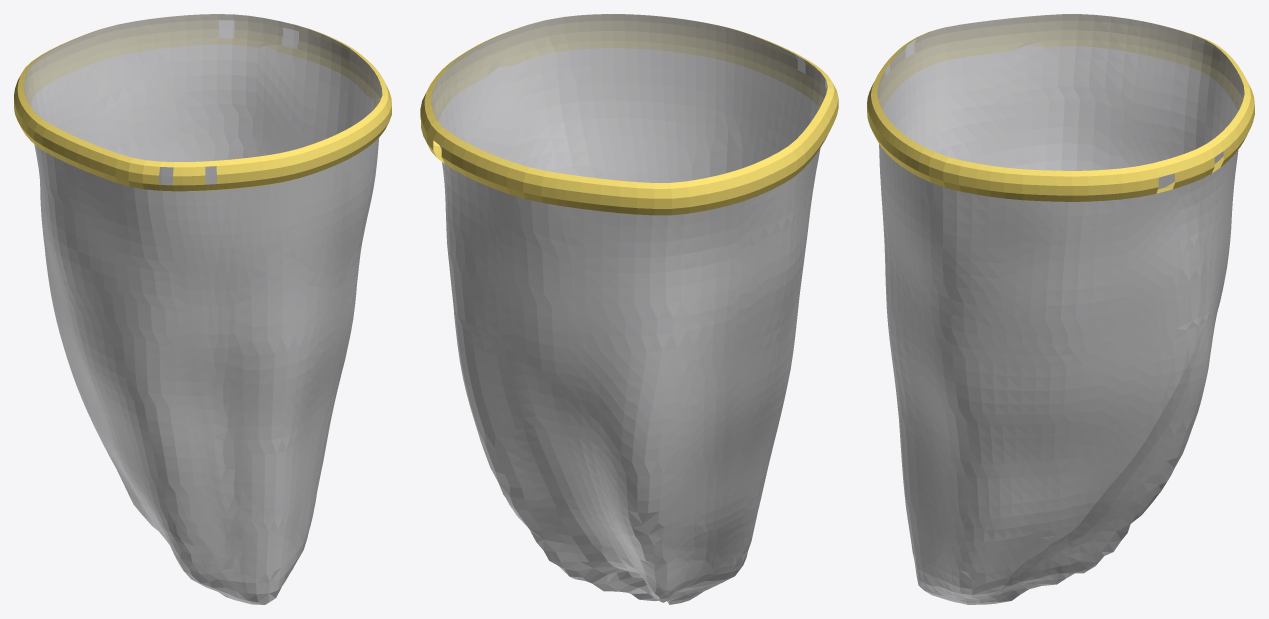
Rendered from Trashbag_rope.glb.
3 renders of one model, left to right at view 1: azimuth 30°, elevation 25°; view 2: azimuth 150°, elevation 25°; view 3: azimuth 270°, elevation 25°, orthographic. The views are drawn at different scales.
Parts seen in each view (by area): view 1: bag, channel; view 2: bag, channel; view 3: bag, channel.
Part boxes in pixels (bbox=[...]): bag: bbox=[23, 14, 382, 604]; channel: bbox=[14, 14, 391, 191]; bag: bbox=[431, 14, 827, 604]; channel: bbox=[420, 14, 838, 215]; bag: bbox=[877, 14, 1244, 604]; channel: bbox=[867, 14, 1254, 201].
Bounding box in the file's own units: 0.3642 × 0.5238 × 0.3604.
